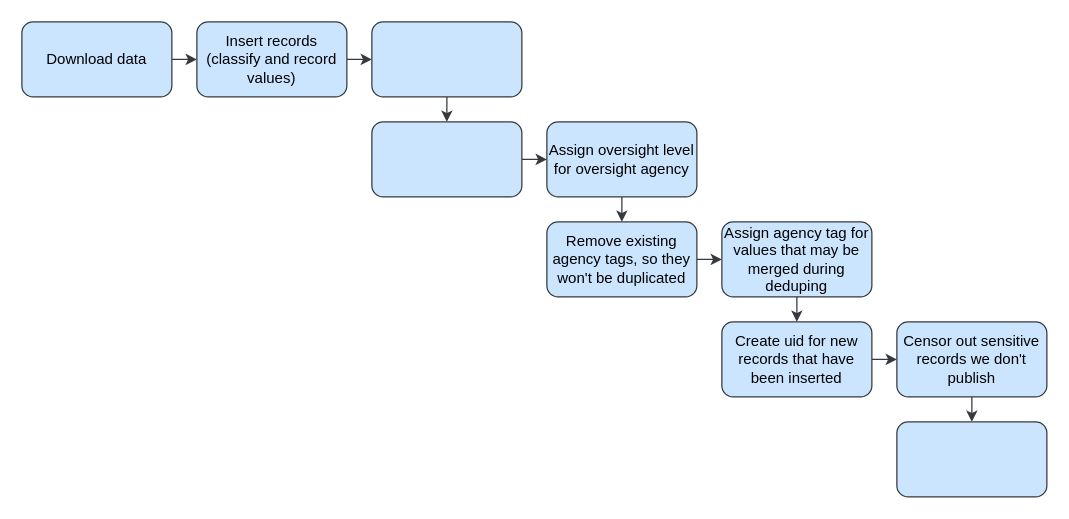
The diagram is 1069 pixels wide and 519 high, and some of its shapes have lost their labels. Here are the shapes that lost their labels. From the top down, the box of each, then its label:
(371, 21, 522, 97): Join on data source details
(371, 121, 522, 197): Fix capitalization and standardize values
(896, 421, 1047, 497): Move on to "Processing" scripts
